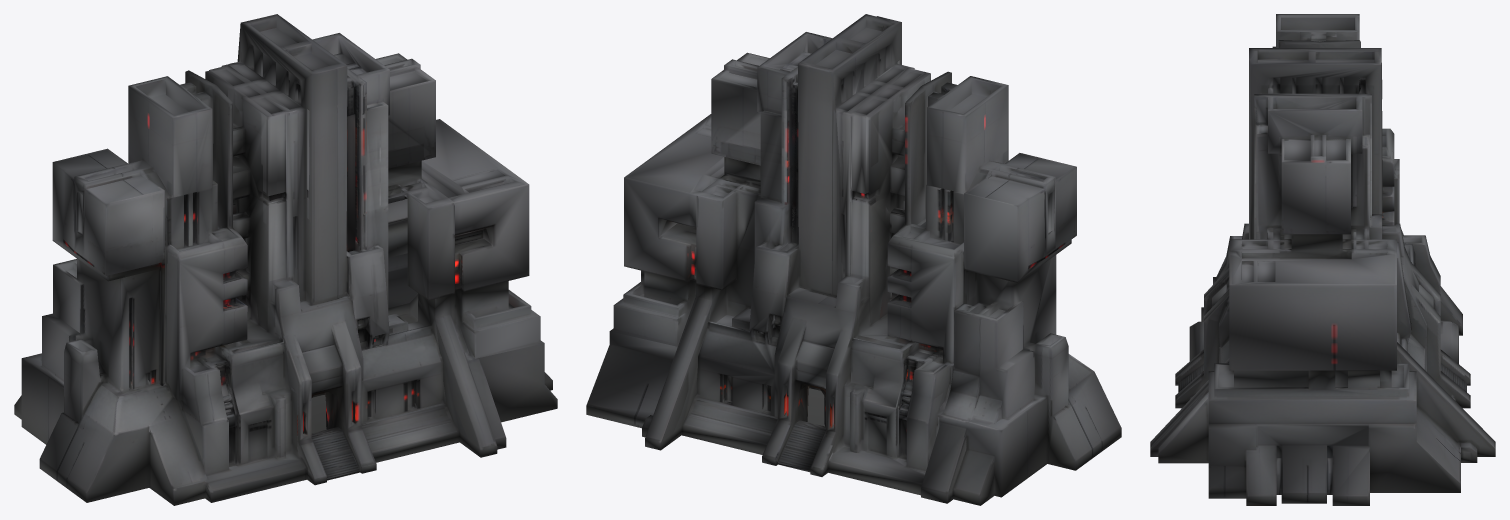
Rendered from VAL_BRUTALIST_BUILDING_2_OS_MML_FINAL.glb.
3 views of the same model, side by side, from view 1: azimuth 30°, elevation 25°; view 2: azimuth 150°, elevation 25°; view 3: azimuth 270°, elevation 25° (orthographic). The views are drawn at different scales.
Visible parts, largest first — view 1: part_00000001; view 2: part_00000001; view 3: part_00000001.
Boxes of the visible parts, bbox=[...] form: part_00000001: bbox=[14, 14, 557, 505]; part_00000001: bbox=[586, 14, 1121, 505]; part_00000001: bbox=[1150, 14, 1495, 505].
Size of the model in its own units: 26.16 by 20.05 by 17.99.
Materials: 1 (1 with a texture image).
